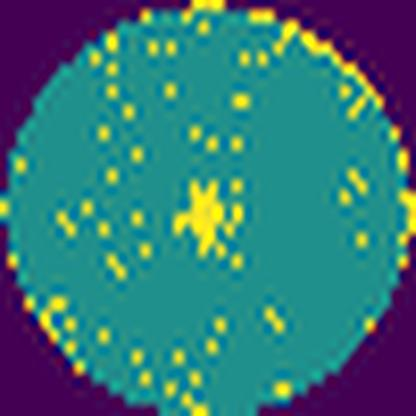Center: (174, 178, 228, 258)
